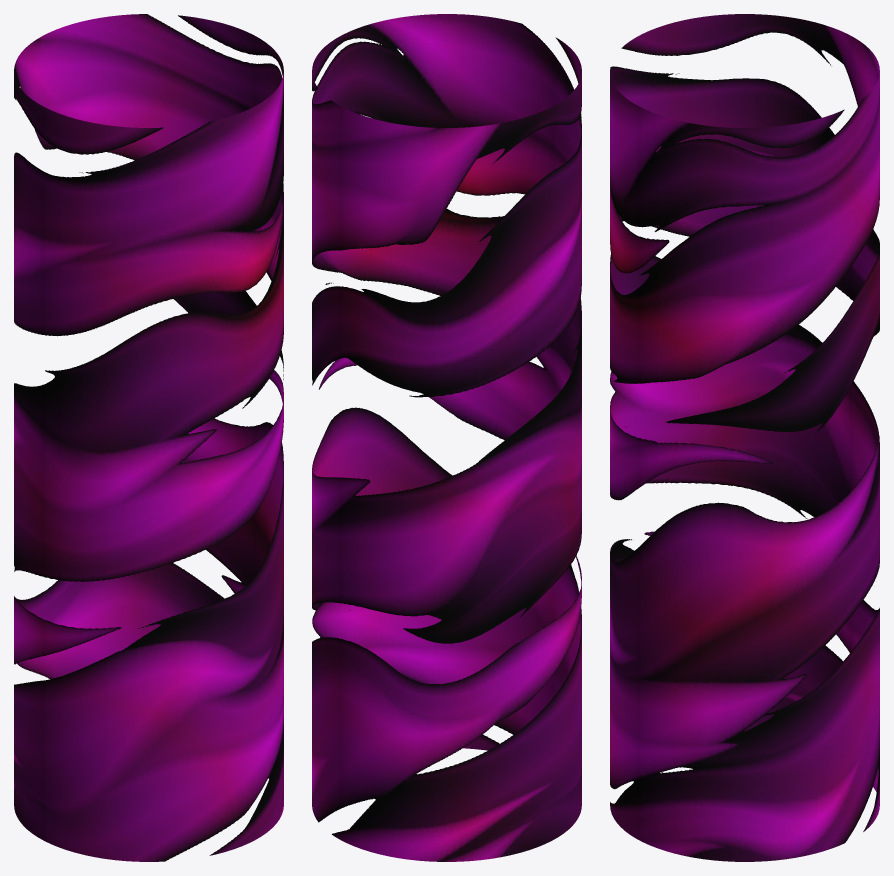
3 renders of one model, left to right at view 1: azimuth 30°, elevation 25°; view 2: azimuth 150°, elevation 25°; view 3: azimuth 270°, elevation 25°, orthographic.
Visible parts, largest first — view 1: SM_Cylinder_High.001; view 2: SM_Cylinder_High.001; view 3: SM_Cylinder_High.001.
Part boxes in pixels (x1=…): SM_Cylinder_High.001: x1=14, y1=14, x2=283, y2=861; SM_Cylinder_High.001: x1=312, y1=14, x2=581, y2=861; SM_Cylinder_High.001: x1=610, y1=14, x2=879, y2=861.
Bounding box in the file's own units: 20000 × 60000 × 20000.
1 material, 1 textured.
